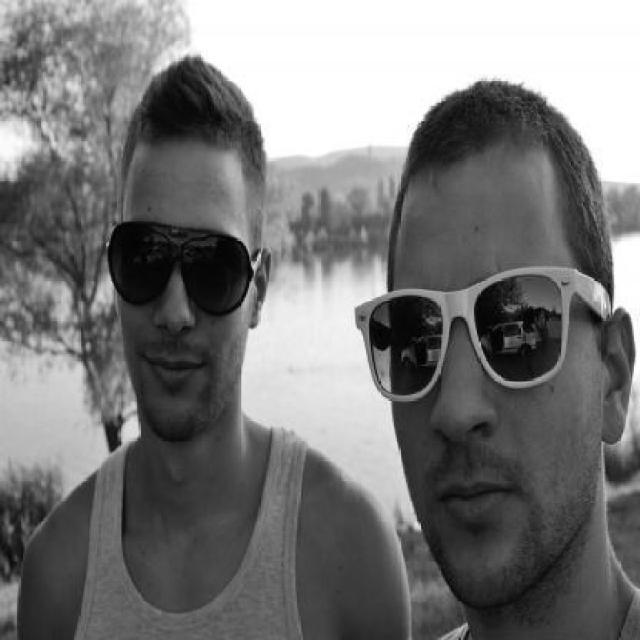face_nomask: (368, 281, 572, 545), (111, 218, 246, 390)
glasses: (344, 262, 587, 410), (102, 215, 255, 322)
head_nohelmet: (390, 107, 593, 236), (119, 64, 267, 178)
